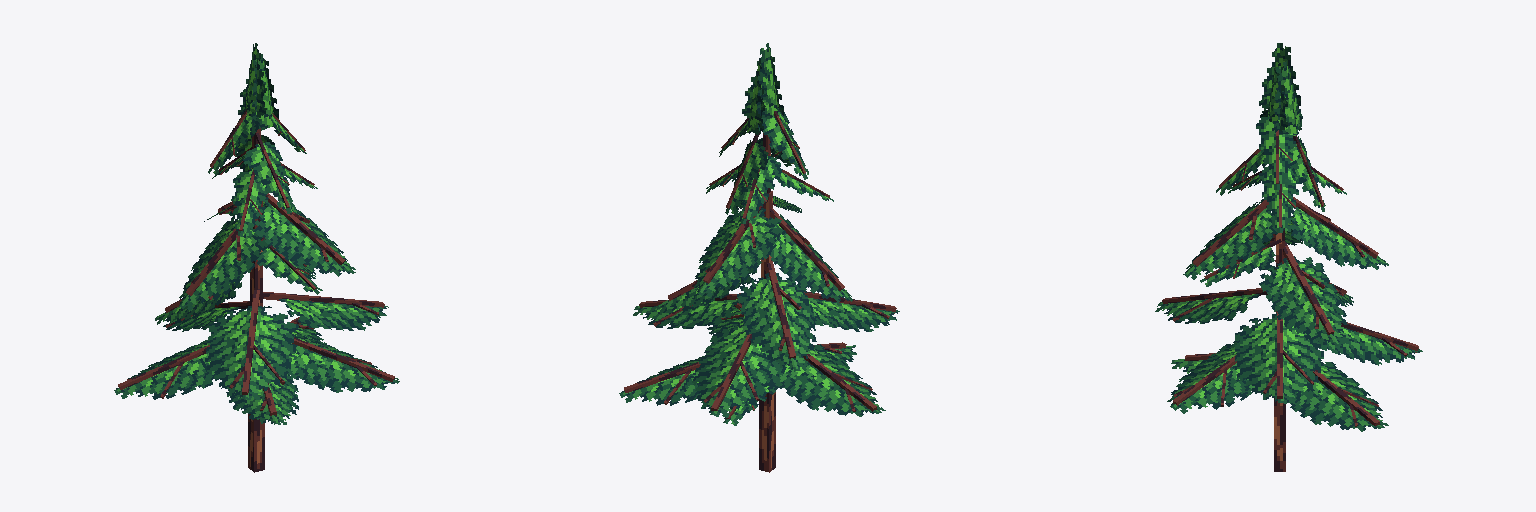
3 renders of one model, left to right at view 1: azimuth 30°, elevation 25°; view 2: azimuth 150°, elevation 25°; view 3: azimuth 270°, elevation 25°, orthographic.
Visible parts, largest first — view 1: plane, cuboid; view 2: plane, cuboid; view 3: plane, cuboid.
Part boxes in pixels (x1,y1,x2,y2): plane: (114,43,399,424); cuboid: (118,109,394,472); plane: (619,43,899,425); cuboid: (624,111,896,472); plane: (1155,43,1422,431); cuboid: (1162,130,1418,471).
Size of the model in its own units: 6.28 by 9.72 by 5.94.
1 materials, 1 textured.